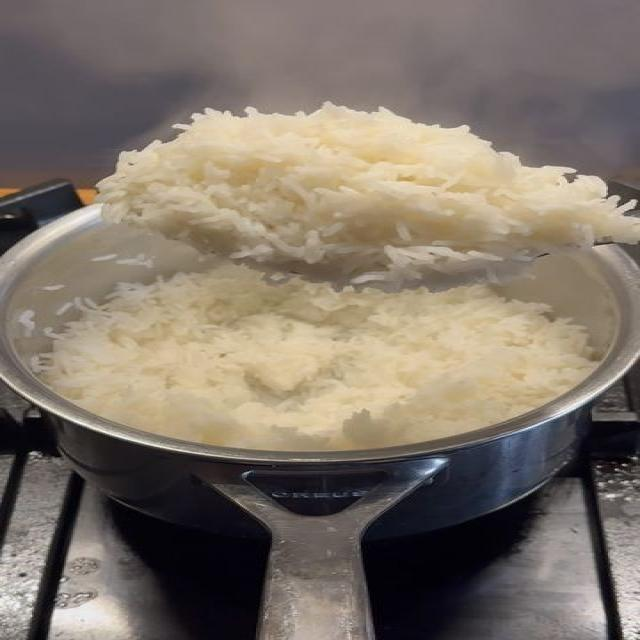rice: (38, 264, 595, 449), (98, 104, 639, 283), (18, 309, 35, 336)
